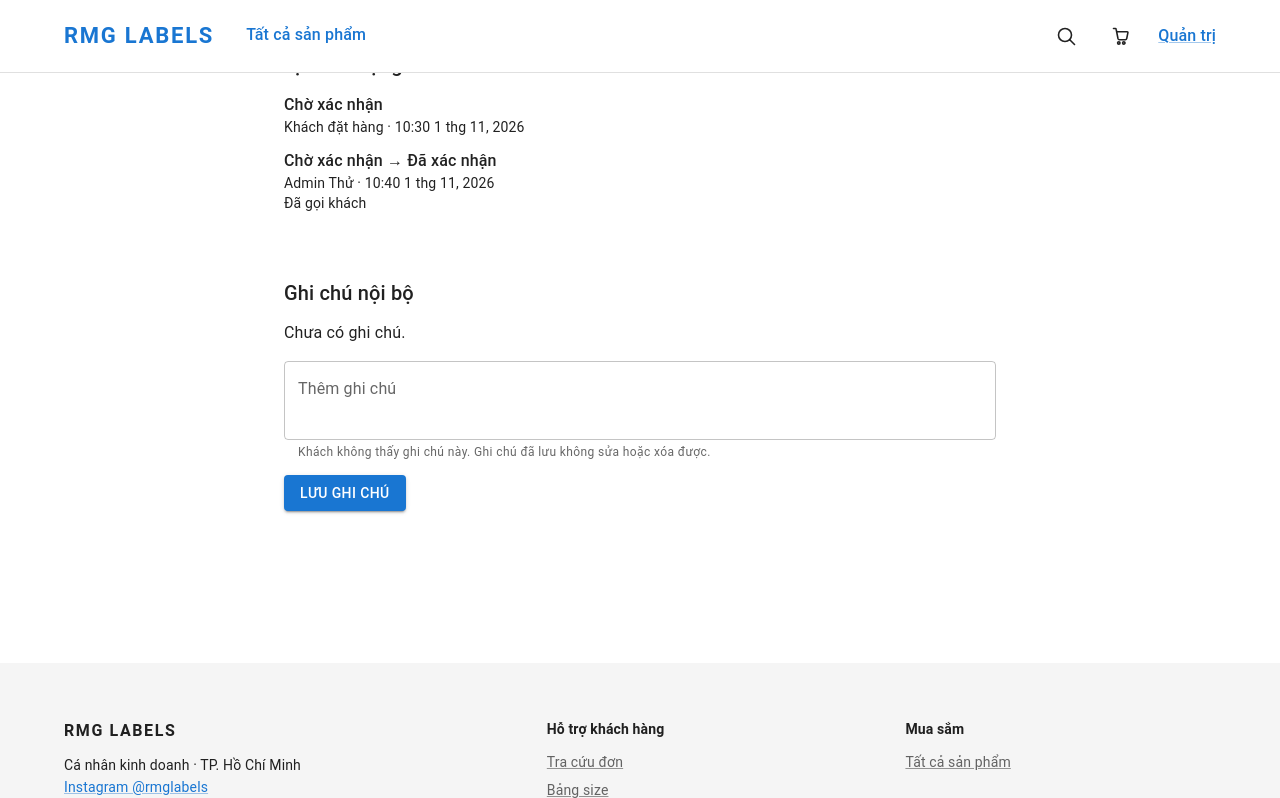
Scenario: internal notes › uses a fresh key for the next note
(page scrolled)
Type "Ghi chú một" into the text box labelled "Thêm ghi chú". click: (640, 400)
box: [298,378,982,424]
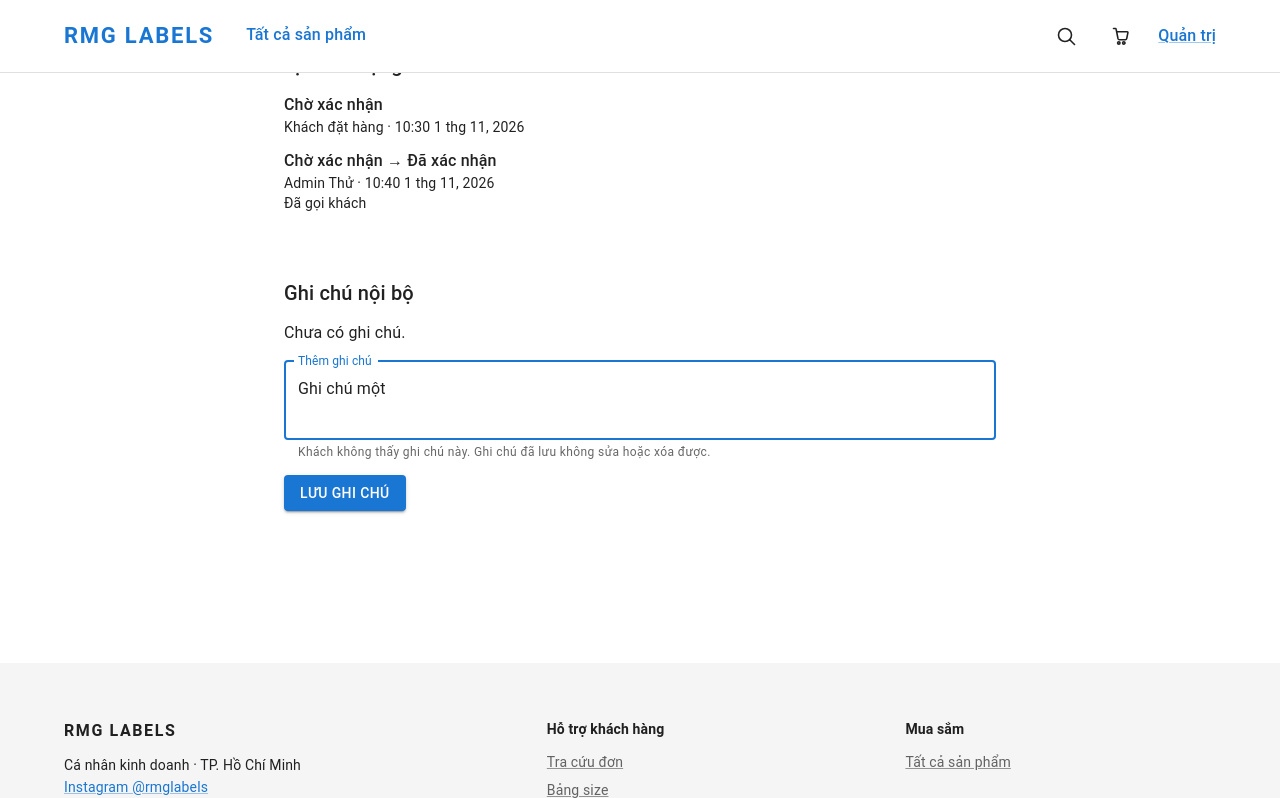
Click the button "Lưu ghi chú". click: (345, 493)
box: [284,475,406,511]
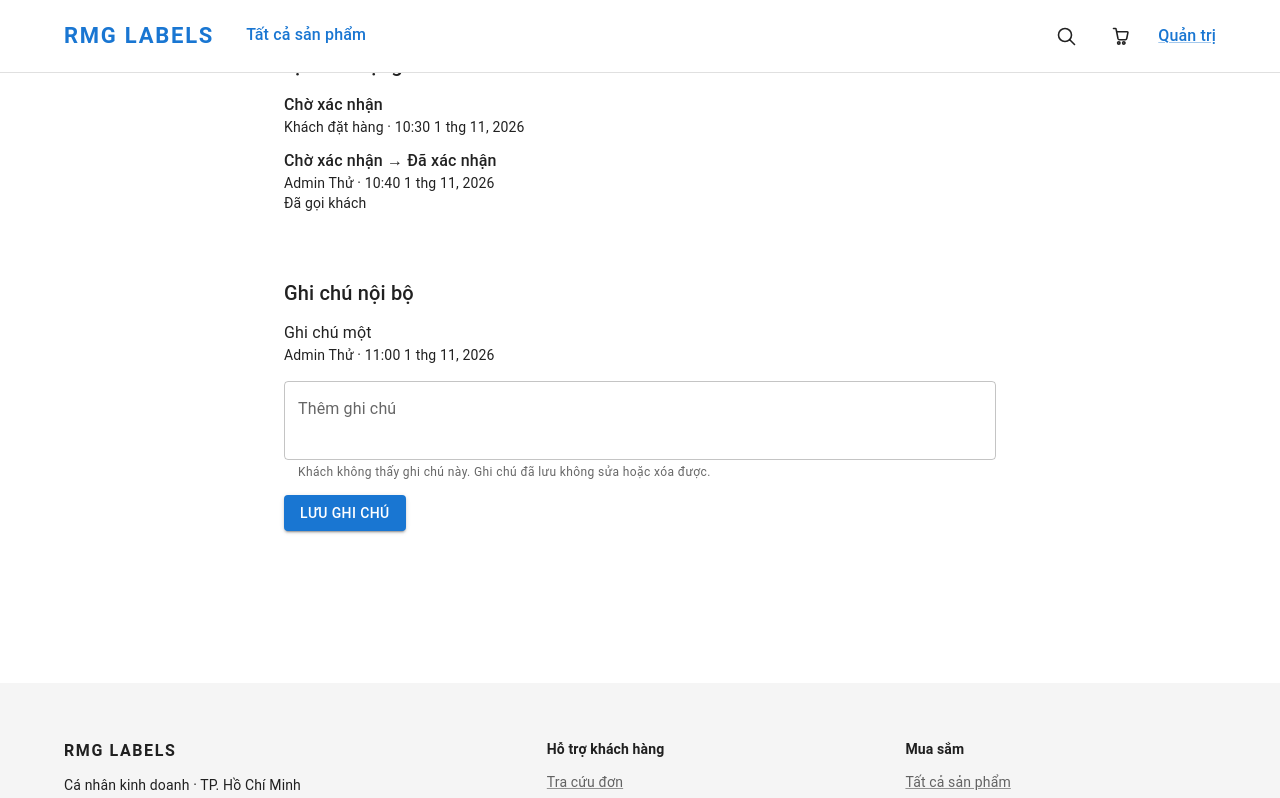
expect the text "Ghi chú một" is shown: met, box [284,323,372,342]
Type "Ghi chú hai" into the text box labelled "Thêm ghi chú". click: (640, 420)
box: [298,398,982,444]
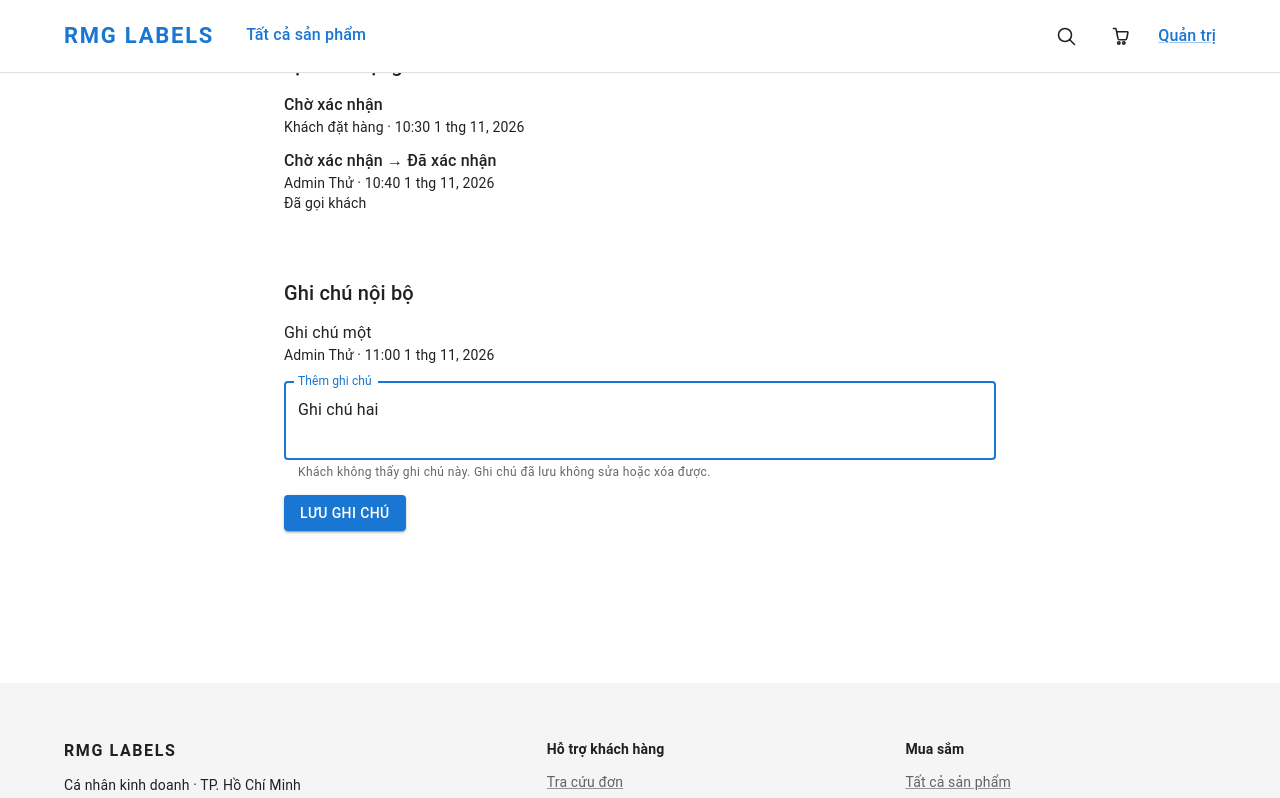
Click the button "Lưu ghi chú". click: (345, 513)
box: [284,495,406,531]
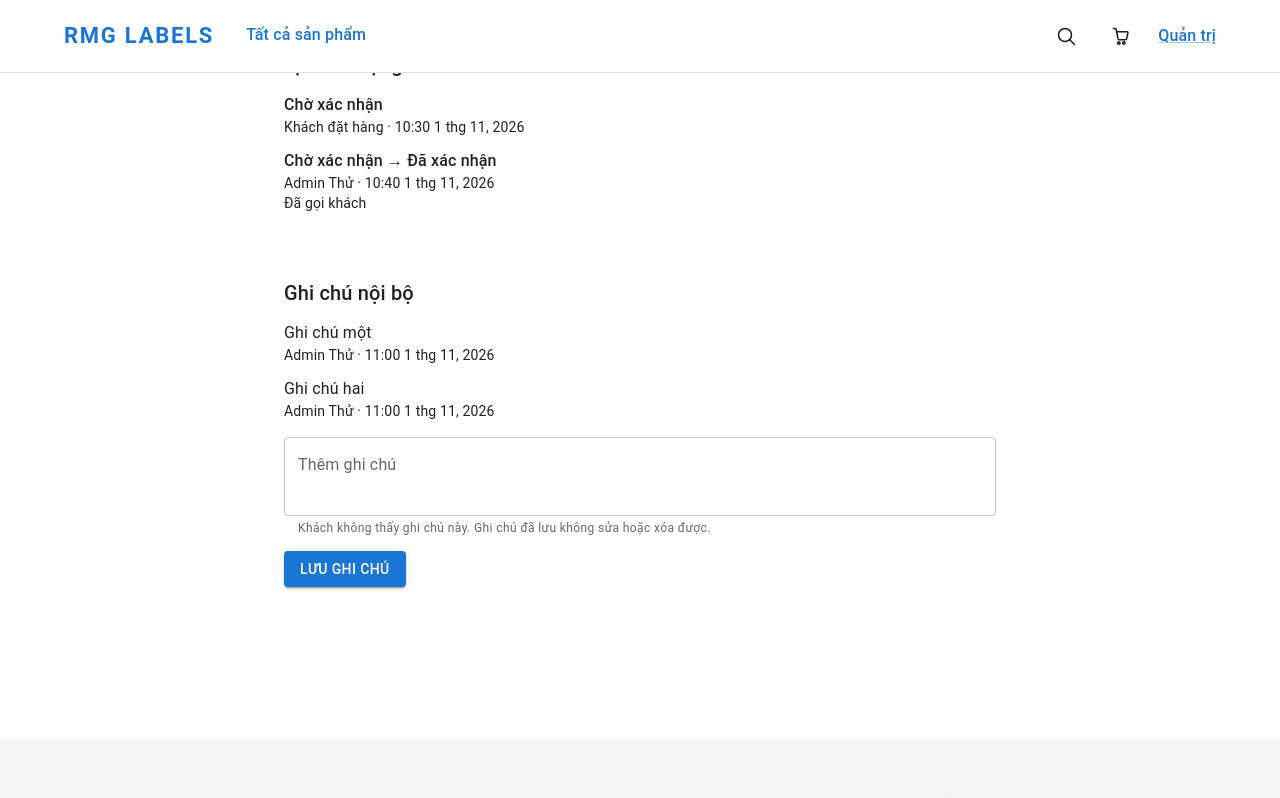
expect the text "Ghi chú hai" is shown: met, box [284,379,365,398]
